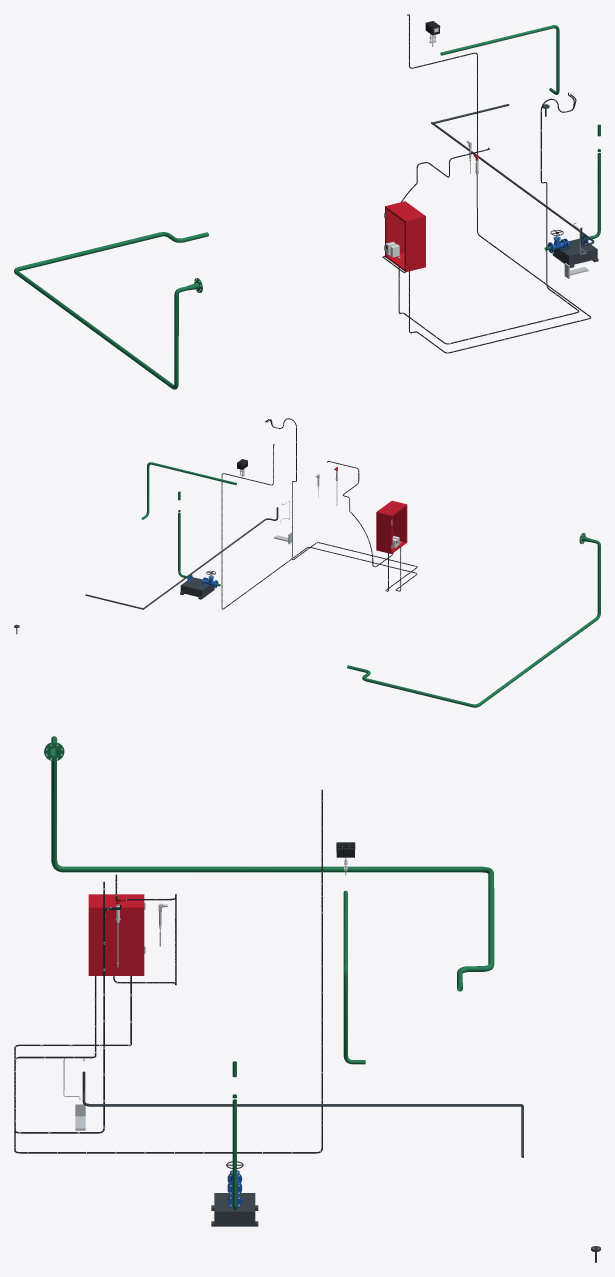
3 renders of one model, top to bottom at view 1: azimuth 30°, elevation 25°; view 2: azimuth 150°, elevation 25°; view 3: azimuth 270°, elevation 25°, orthographic. The views are drawn at different scales.
Parts seen in each view (by area): view 1: deaerator_feed / green, control_cabinet / control_cabinet_0.npz, gpz_drive_cable / black, pump_branch_1 / dark, to_direct / green, wiring_pressure_switch_3 / black, wiring_pressure_transmitter / black, tds_common / dark; view 2: deaerator_feed / green, control_cabinet / control_cabinet_0.npz, gpz_drive_cable / black, pump_branch_1 / dark, to_direct / green, wiring_pressure_transmitter / black; view 3: deaerator_feed / green, control_cabinet / control_cabinet_0.npz, gpz_drive_cable / black, tds_common / dark, pump_branch_1 / dark, wiring_pressure_switch_3 / black, to_direct / green, wiring_pressure_transmitter / black.
Part boxes in pixels (x1=…): deaerator_feed / green: x1=14, y1=232, x2=208, y2=389; control_cabinet / control_cabinet_0.npz: x1=384, y1=201, x2=425, y2=271; gpz_drive_cable / black: x1=407, y1=14, x2=591, y2=353; pump_branch_1 / dark: x1=552, y1=238, x2=598, y2=267; to_direct / green: x1=440, y1=25, x2=559, y2=94; wiring_pressure_switch_3 / black: x1=398, y1=94, x2=578, y2=344; wiring_pressure_transmitter / black: x1=398, y1=92, x2=579, y2=344; tds_common / dark: x1=431, y1=122, x2=594, y2=245; deaerator_feed / green: x1=347, y1=533, x2=600, y2=707; control_cabinet / control_cabinet_0.npz: x1=376, y1=500, x2=407, y2=553; gpz_drive_cable / black: x1=221, y1=444, x2=417, y2=609; pump_branch_1 / dark: x1=180, y1=577, x2=214, y2=599; to_direct / green: x1=141, y1=462, x2=236, y2=519; wiring_pressure_transmitter / black: x1=266, y1=418, x2=417, y2=591; deaerator_feed / green: x1=44, y1=736, x2=494, y2=991; control_cabinet / control_cabinet_0.npz: x1=88, y1=894, x2=145, y2=975; gpz_drive_cable / black: x1=14, y1=789, x2=322, y2=1153; tds_common / dark: x1=82, y1=1071, x2=522, y2=1106; pump_branch_1 / dark: x1=211, y1=1193, x2=258, y2=1226; wiring_pressure_switch_3 / black: x1=14, y1=882, x2=131, y2=1133; to_direct / green: x1=343, y1=890, x2=365, y2=1064; wiring_pressure_transmitter / black: x1=14, y1=882, x2=131, y2=1133.
Bounding box in the file's own units: 8.53 × 3.58 × 5.61.
